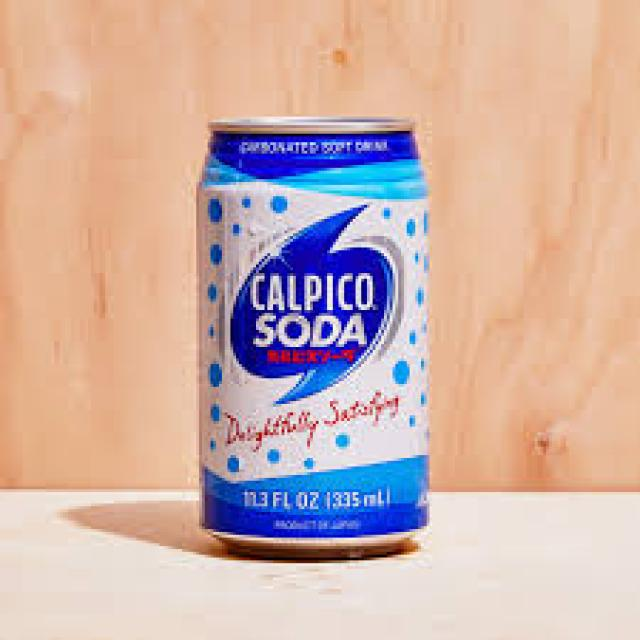Cans: (188, 105, 444, 558)
